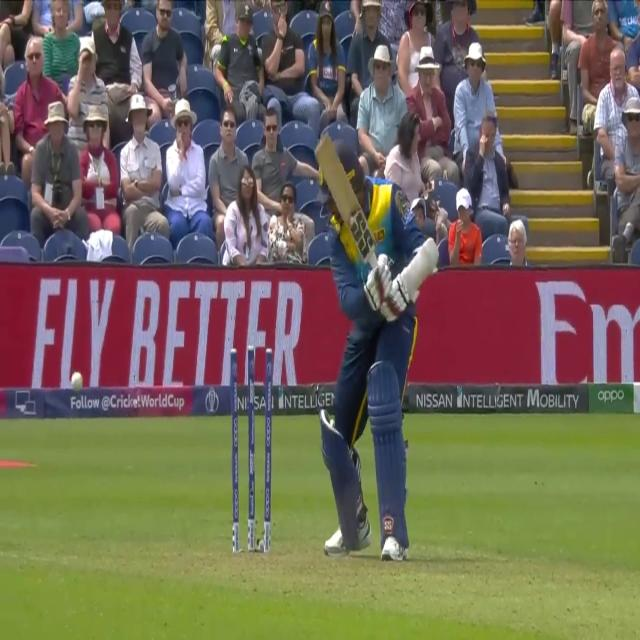ball: (67, 364, 90, 400)
